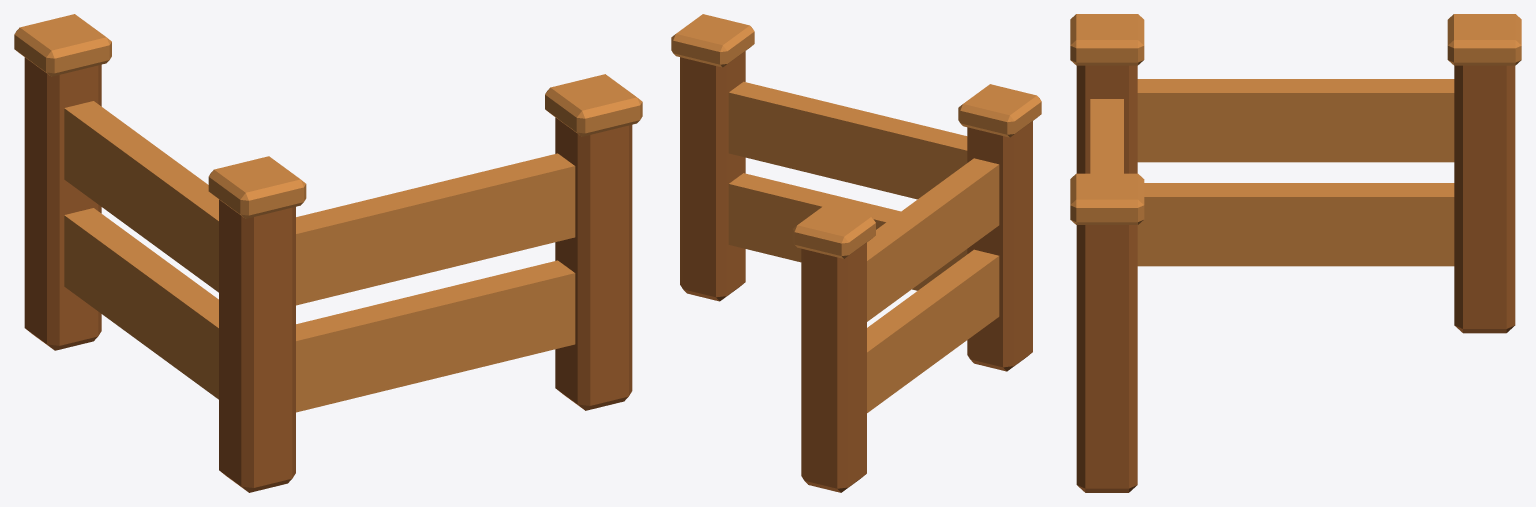
Rendered from WoodenFence_Corner.fbx.
The picture shows the model from 3 angles, left to right: view 1: azimuth 30°, elevation 25°; view 2: azimuth 150°, elevation 25°; view 3: azimuth 270°, elevation 25°; orthographic projection. The views are drawn at different scales.
Visible parts, largest first — view 1: Fence_Rail_X_0, Fence_Rail_X_1, Fence_Post_Corner, Fence_Post_X, Fence_Rail_Y_0, Fence_Rail_Y_1, Fence_Post_Y, Fence_Post_Corner_Cap, Fence_Post_X_Cap, Fence_Post_Y_Cap; view 2: Fence_Rail_X_1, Fence_Post_Y, Fence_Post_X, Fence_Rail_Y_0, Fence_Rail_Y_1, Fence_Post_Corner, Fence_Rail_X_0, Fence_Post_X_Cap, Fence_Post_Corner_Cap, Fence_Post_Y_Cap; view 3: Fence_Rail_Y_1, Fence_Rail_Y_0, Fence_Post_Y, Fence_Post_X, Fence_Post_Corner, Fence_Post_Corner_Cap, Fence_Post_Y_Cap, Fence_Post_X_Cap, Fence_Rail_X_1.
Part boxes in pixels (bbox=[...]): Fence_Rail_X_0: bbox=[296, 260, 575, 412]; Fence_Rail_X_1: bbox=[296, 153, 575, 305]; Fence_Post_Corner: bbox=[219, 199, 295, 492]; Fence_Post_X: bbox=[555, 117, 632, 410]; Fence_Rail_Y_0: bbox=[64, 208, 218, 399]; Fence_Rail_Y_1: bbox=[64, 101, 218, 292]; Fence_Post_Y: bbox=[24, 57, 101, 350]; Fence_Post_Corner_Cap: bbox=[208, 156, 306, 218]; Fence_Post_X_Cap: bbox=[545, 74, 642, 136]; Fence_Post_Y_Cap: bbox=[14, 14, 111, 76]; Fence_Rail_X_1: bbox=[728, 81, 967, 199]; Fence_Post_Y: bbox=[801, 242, 866, 492]; Fence_Post_X: bbox=[680, 51, 745, 301]; Fence_Rail_Y_0: bbox=[867, 249, 999, 412]; Fence_Rail_Y_1: bbox=[867, 158, 999, 321]; Fence_Post_Corner: bbox=[967, 121, 1032, 371]; Fence_Rail_X_0: bbox=[728, 173, 967, 290]; Fence_Post_X_Cap: bbox=[671, 14, 754, 67]; Fence_Post_Corner_Cap: bbox=[958, 84, 1041, 137]; Fence_Post_Y_Cap: bbox=[792, 205, 875, 258]; Fence_Rail_Y_1: bbox=[1137, 79, 1454, 162]; Fence_Rail_Y_0: bbox=[1137, 183, 1454, 266]; Fence_Post_Y: bbox=[1454, 65, 1515, 333]; Fence_Post_X: bbox=[1076, 225, 1137, 492]; Fence_Post_Corner: bbox=[1076, 65, 1137, 173]; Fence_Post_Corner_Cap: bbox=[1070, 14, 1144, 65]; Fence_Post_Y_Cap: bbox=[1447, 14, 1521, 65]; Fence_Post_X_Cap: bbox=[1070, 173, 1144, 224]; Fence_Rail_X_1: bbox=[1090, 99, 1123, 173].
Bounding box in the file's own units: 1.77 × 1.29 × 1.77.
